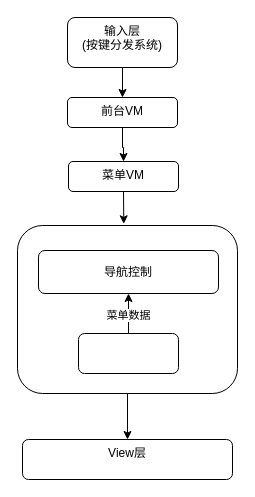
This 255x497 diagram has some shape labels left out. Each missing label, with the box of its shape:
菜单树管理: (78, 332, 178, 374)
菜单管理: (16, 224, 238, 394)
